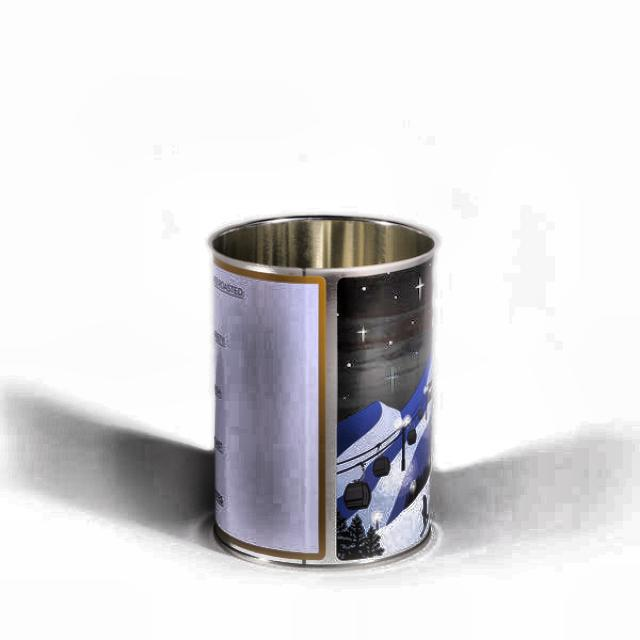can: (200, 202, 451, 575)
